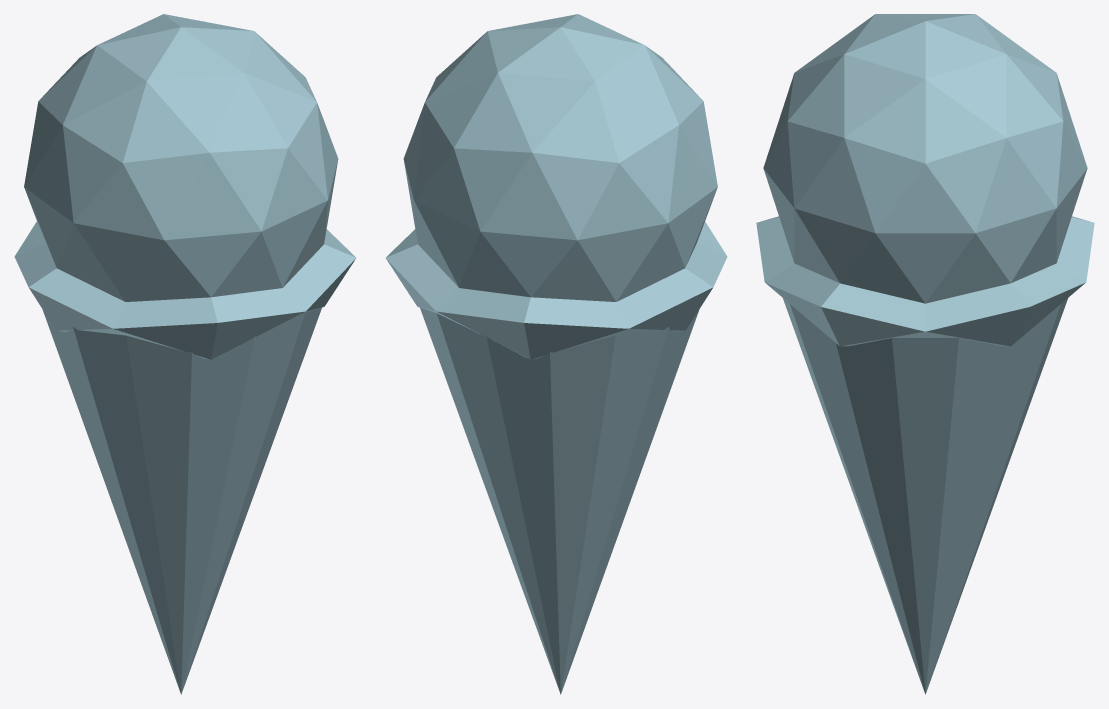
File: cc0-icecream-lod0.glb
3 renders of one model, left to right at view 1: azimuth 30°, elevation 25°; view 2: azimuth 150°, elevation 25°; view 3: azimuth 270°, elevation 25°, orthographic.
Visible parts, largest first — view 1: part_0; view 2: part_0; view 3: part_0.
Boxes of the visible parts, <box> form: part_0: <box>14,14,356,694</box>; part_0: <box>385,14,727,694</box>; part_0: <box>756,14,1094,694</box>.
Bounding box in the file's own units: 0.8542 × 1.83 × 0.8327.
